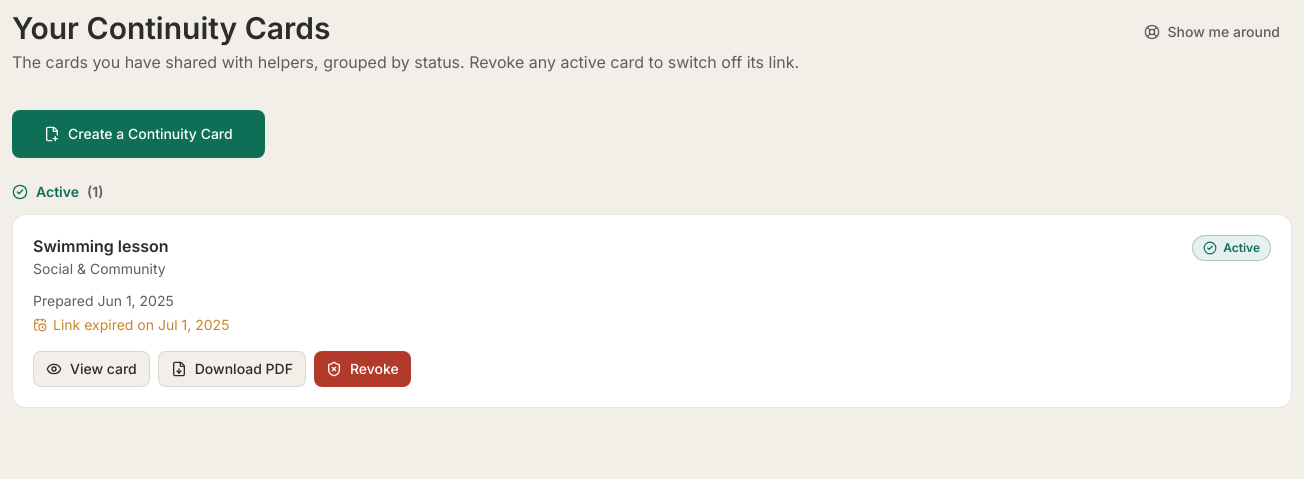
Test: CardHistoryList › surfaces an inline error when the PDF download fails, and does not save anything
Check: the heading "Swimming lesson" is shown, box [33,235,169,257]
Click the button "Download PDF" at [232, 369], box [158,351,306,387]
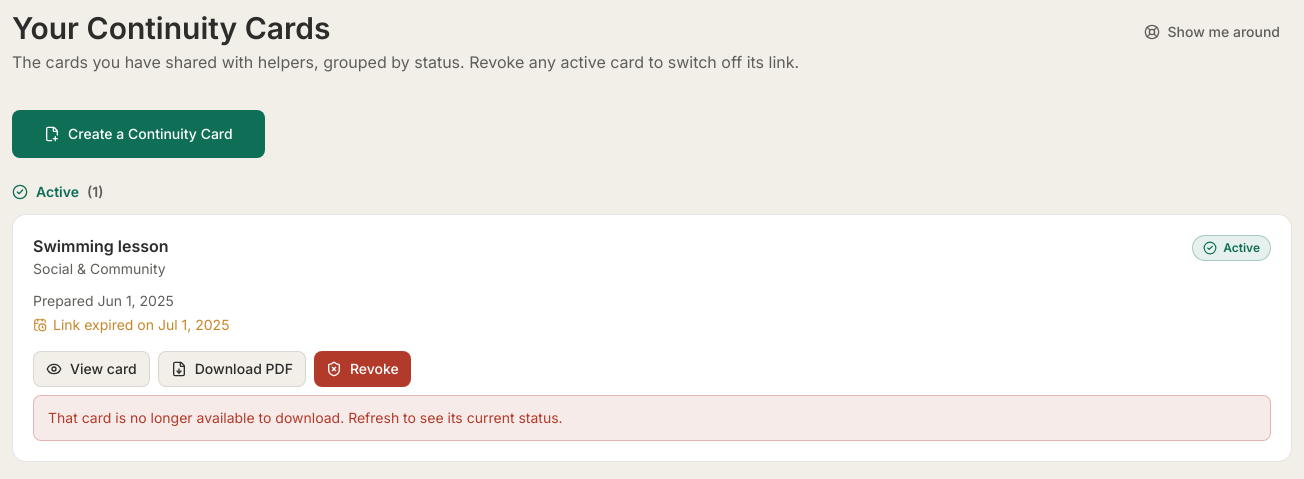
Check: the message shows "no longer available to download", box [48,409,563,426]
